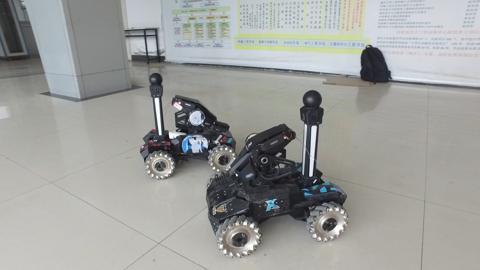chariot: (202, 90, 352, 263), (126, 67, 244, 184)
